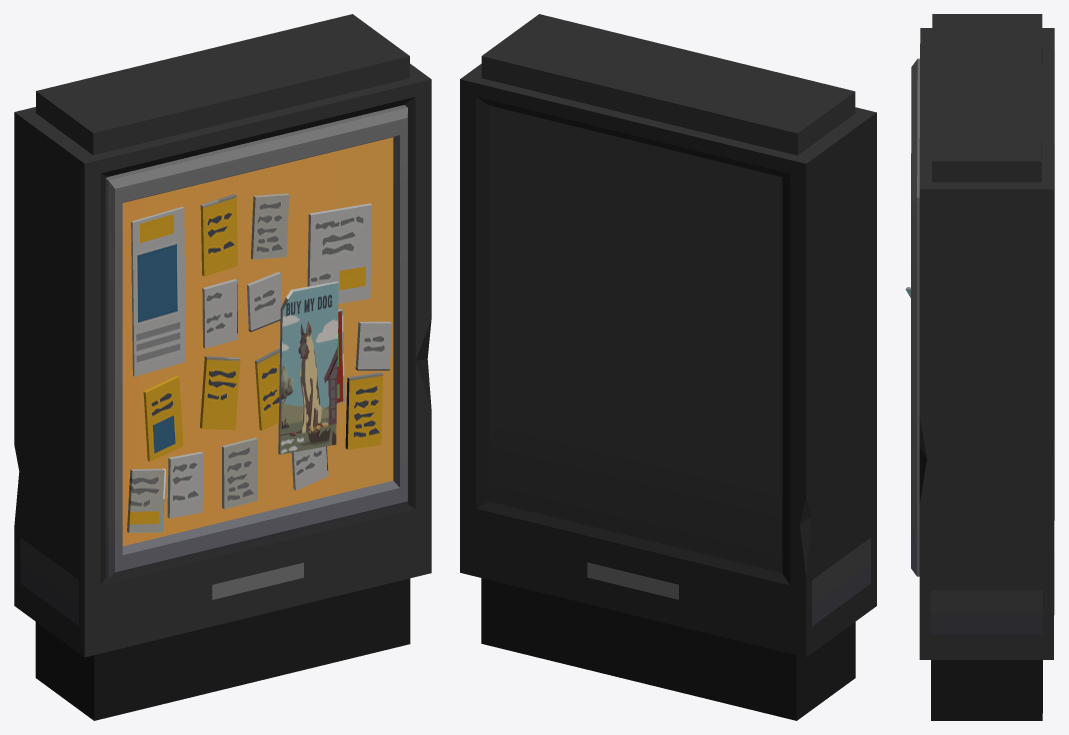
Rendered from Ad Screen.fbx.
3 renders of one model, left to right at view 1: azimuth 30°, elevation 25°; view 2: azimuth 150°, elevation 25°; view 3: azimuth 270°, elevation 25°, orthographic. The views are drawn at different scales.
Parts seen in each view (by area): view 1: Ad_Screen; view 2: Ad_Screen; view 3: Ad_Screen.
Part boxes in pixels (bbox=[...]): Ad_Screen: bbox=[14, 14, 431, 720]; Ad_Screen: bbox=[460, 14, 876, 720]; Ad_Screen: bbox=[905, 14, 1054, 720].
Bounding box in the file's own units: 109 × 177 × 42.77.
